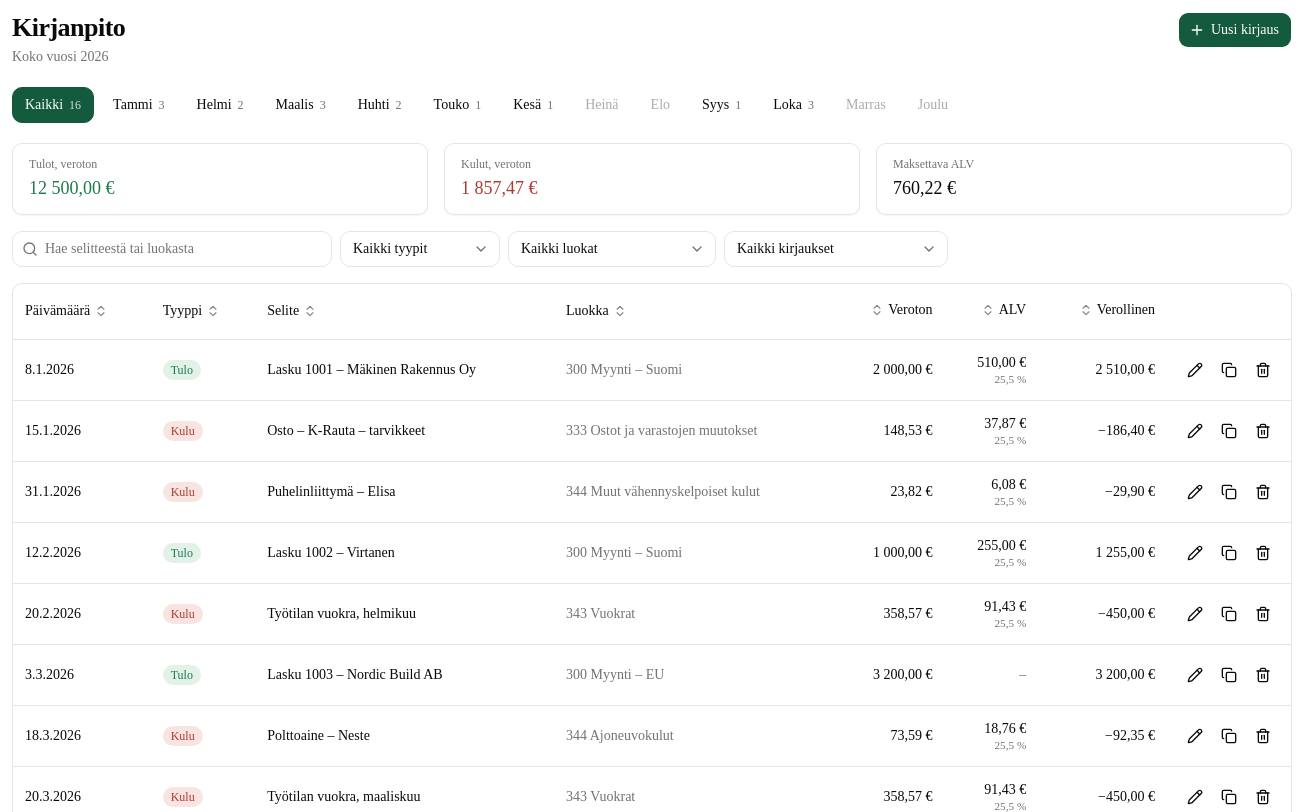
Test: LedgerView with the sample data › keeps the pagination row on a list that fits one page
Click the button "Loka 3" at (794, 104), box [760,86,827,122]
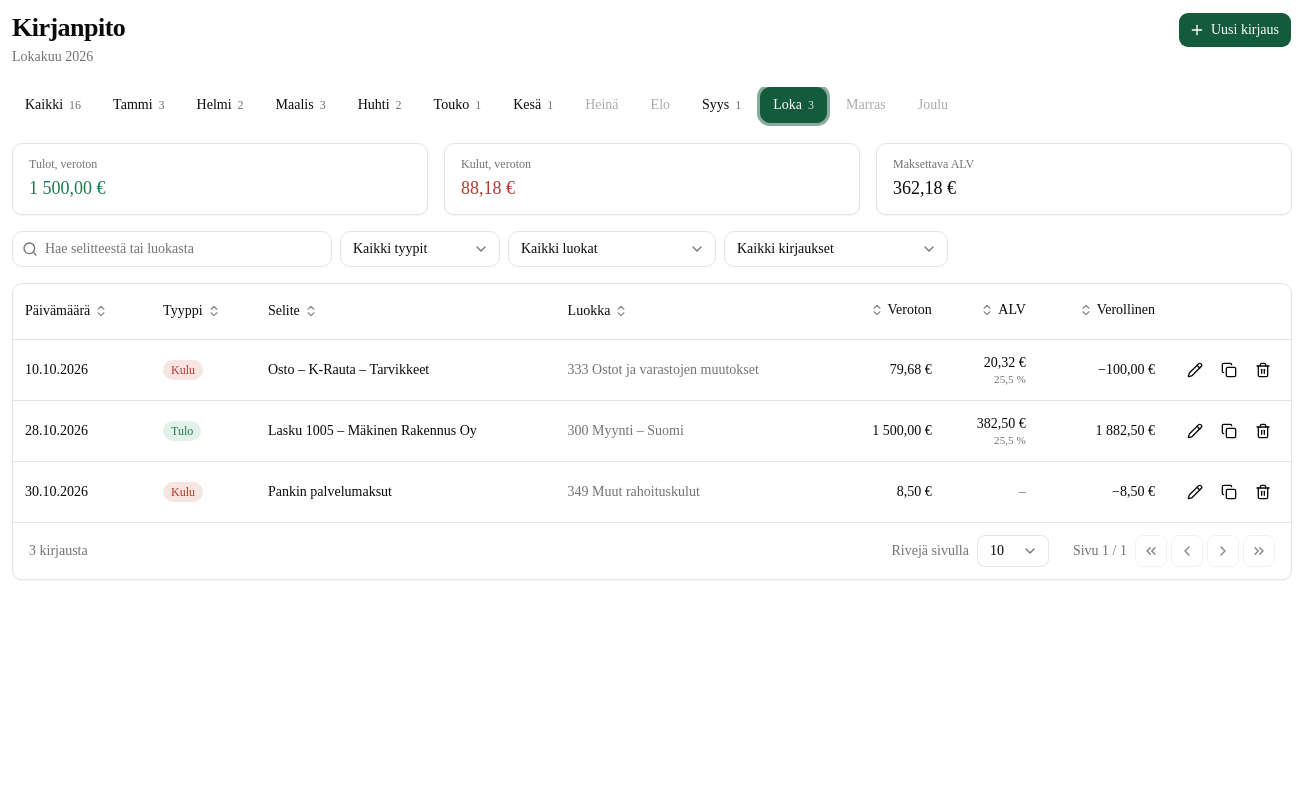
Expected: the dropdown named "Rivejä sivulla" is shown, [977,535,1049,567]
Expected: the text "Sivu 1 / 1" is shown, [1073,541,1127,561]
